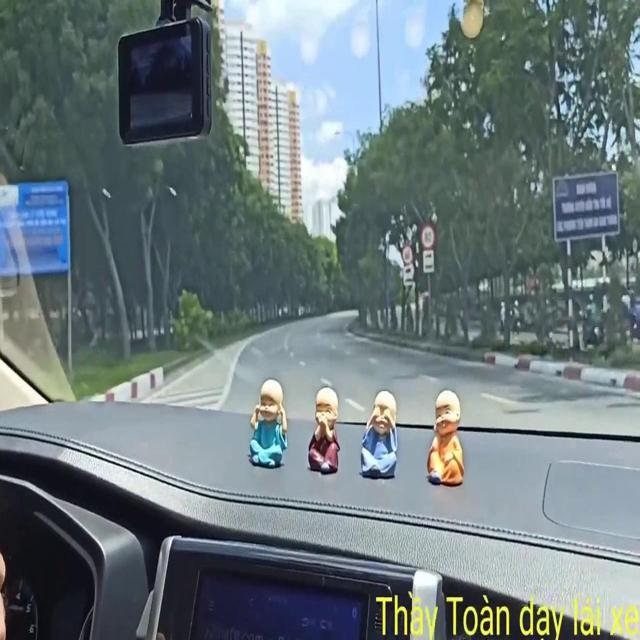Biển phụ: (421, 244, 435, 271), (401, 264, 413, 288)
Giới hạn tốc độ: 60Km/h: (399, 242, 415, 264)
Giới hạn tốc độ: 80Km/h: (417, 222, 435, 248)
Khác: (547, 165, 624, 236)
